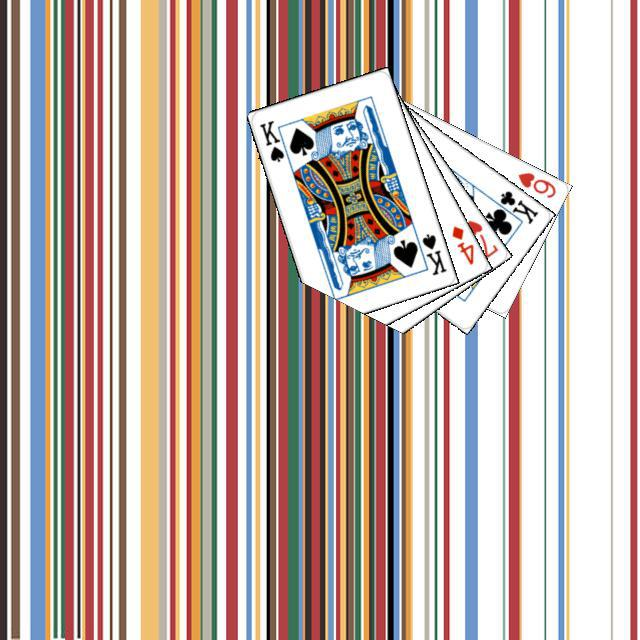4d: (447, 221, 476, 266)
6h: (513, 167, 558, 200)
7h: (462, 215, 500, 260)
Kc: (486, 186, 540, 226)
Ks: (255, 115, 292, 164), (417, 229, 448, 277)
